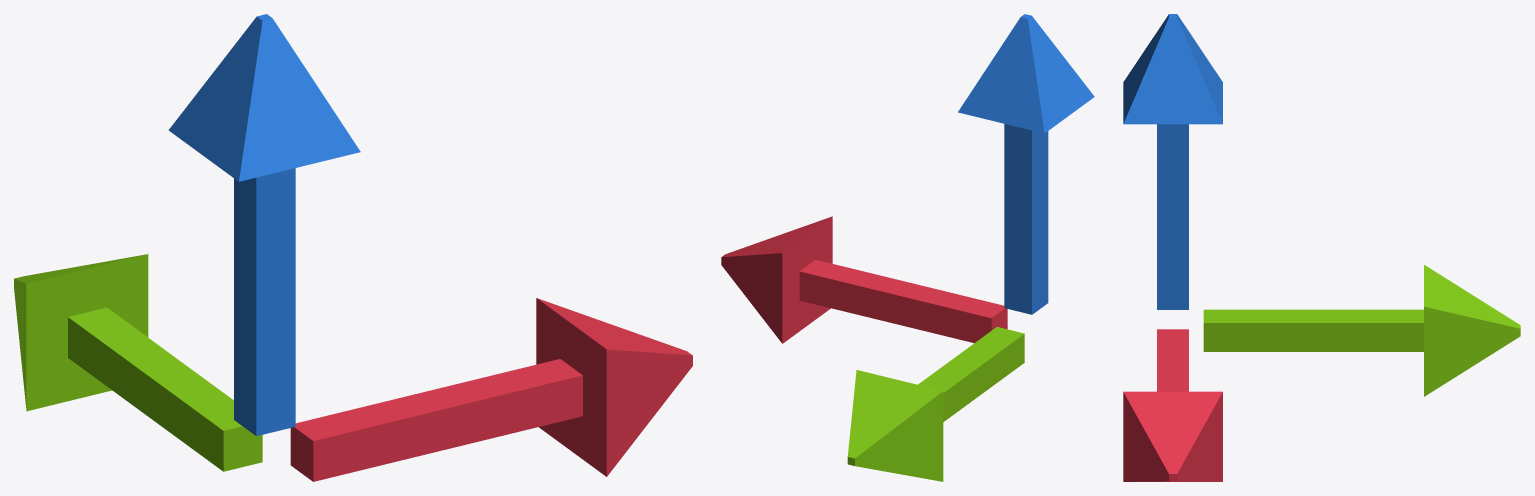
File: giz.glb
3 views of the same model, side by side, from view 1: azimuth 30°, elevation 25°; view 2: azimuth 150°, elevation 25°; view 3: azimuth 270°, elevation 25° (orthographic). The views are drawn at different scales.
Parts seen in each view (by area): view 1: z, x, y; view 2: z, x, y; view 3: y, z, x.
Part boxes in pixels (x1,y1,x2,y2): z: [168, 14, 360, 436]; x: [290, 298, 692, 481]; y: [14, 254, 262, 471]; z: [958, 14, 1094, 314]; x: [721, 216, 1007, 343]; y: [847, 327, 1024, 481]; y: [1203, 265, 1520, 396]; z: [1123, 14, 1222, 309]; x: [1123, 329, 1222, 481].
Bounding box in the file's own units: 2.79 × 2.79 × 2.79.
